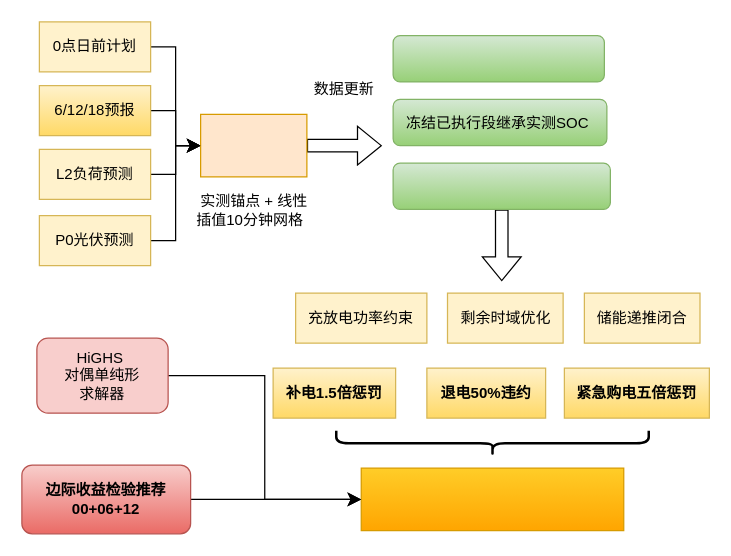
Some shapes in this 731 by 556 pixel diagram are drawn without their labels. The shapes that lost their labels are listed below. From the top down, each one's centre as x and y in pixels, then its label:
pixel 498 58: 分发布时刻残差场景
pixel 253 145: 滚动预报 曲线构造
pixel 501 185: 最近28日轨迹
pixel 492 499: MPC滚动随机LP
